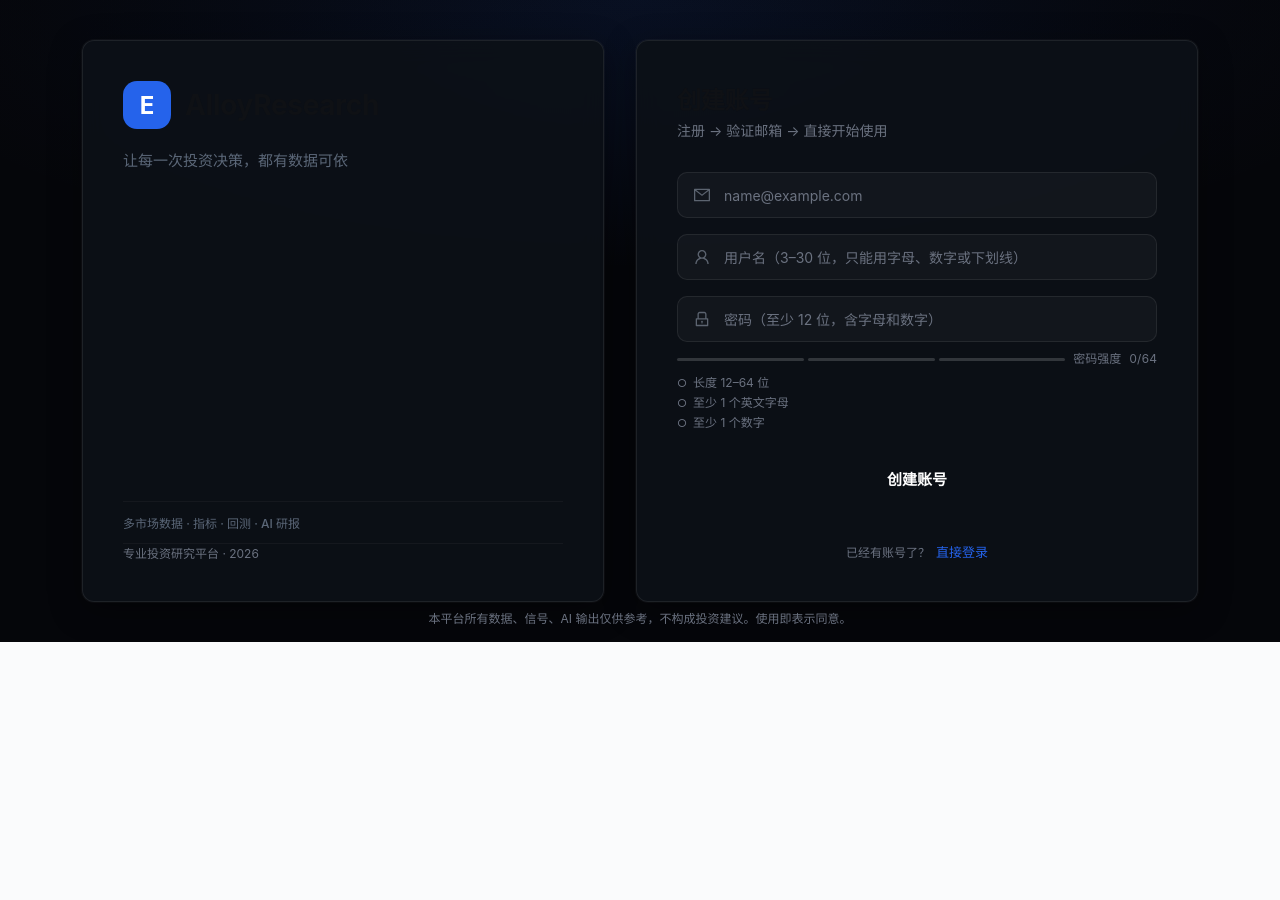
Test: 注册表单校验与提交流程 › 表单未通过校验时不发注册请求
Click the button "创建账号" at (917, 478), box 677,456 -> 1157,500
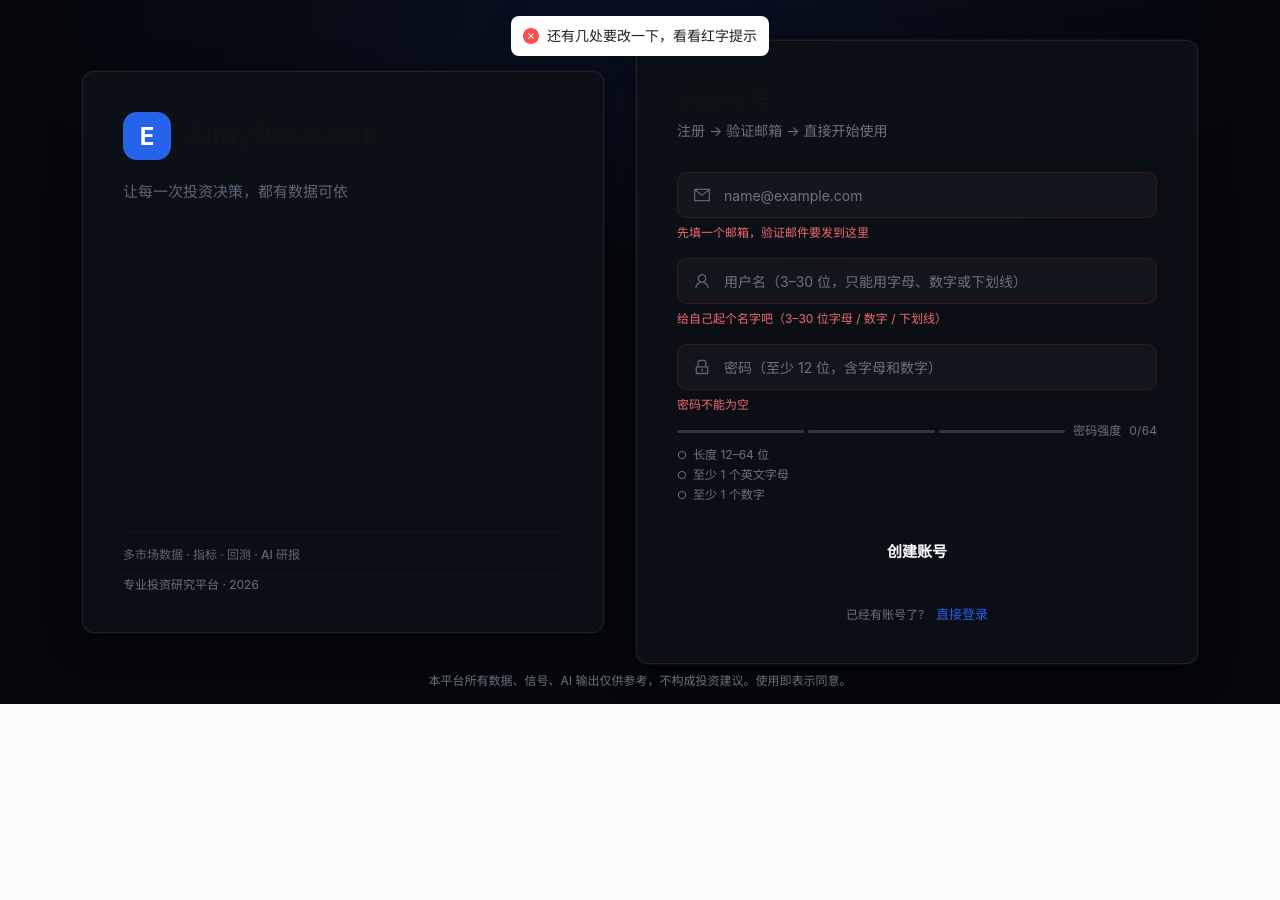
Check: the text "先填一个邮箱，验证邮件要发到这里" is shown, box 677,225 -> 869,240
Check: the text "给自己起个名字吧（3–30 位字母 / 数字 / 下划线）" is shown, box 677,311 -> 947,326
